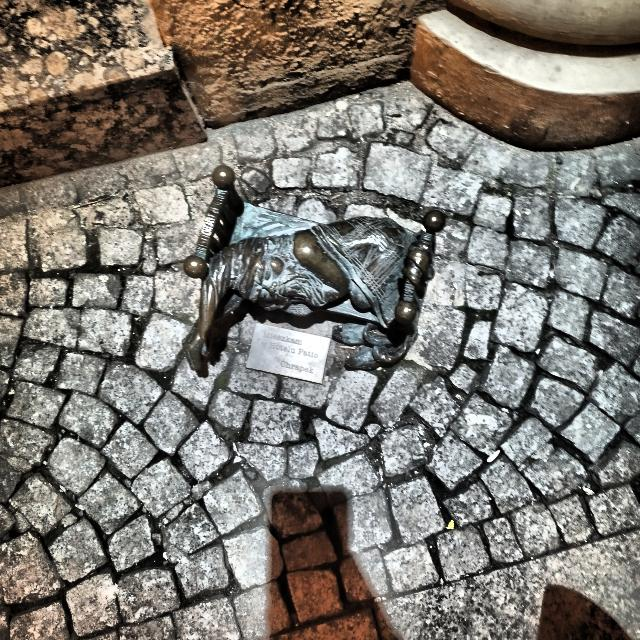Chrapek: (184, 166, 444, 370)
